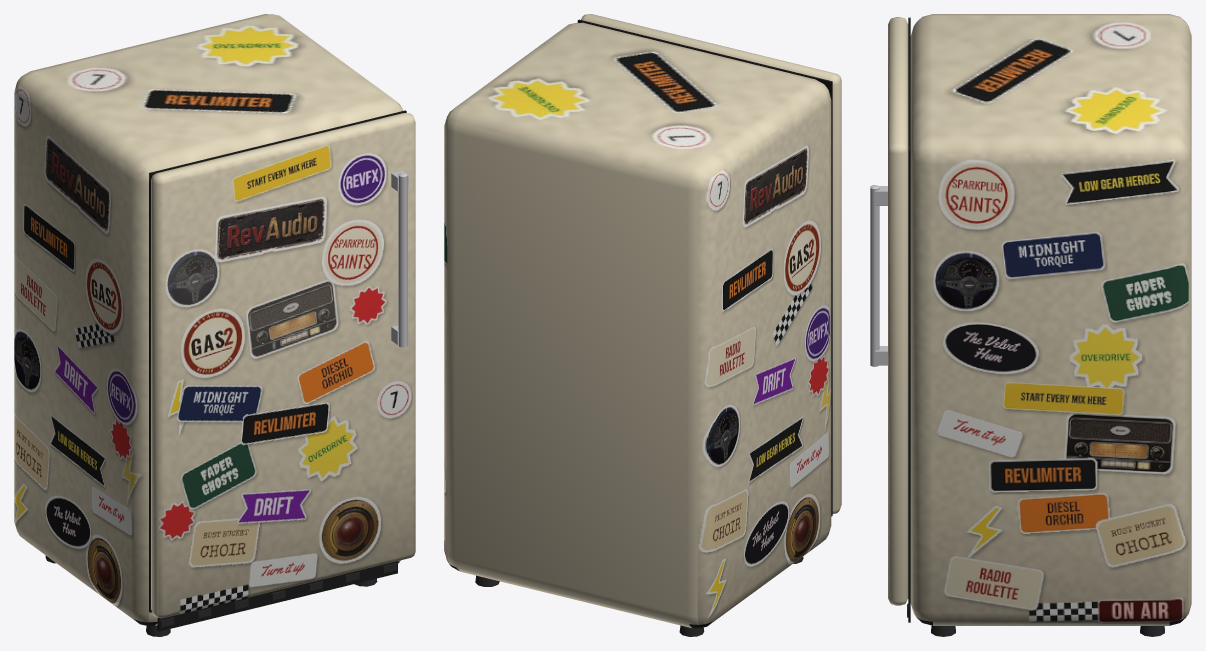
Rendered from mini-fridge.glb.
3 views of the same model, side by side, from view 1: azimuth 30°, elevation 25°; view 2: azimuth 150°, elevation 25°; view 3: azimuth 270°, elevation 25° (orthographic). The views are drawn at different scales.
Visible parts, largest first — view 1: mini_fridge_N28; view 2: mini_fridge_N28; view 3: mini_fridge_N28.
Boxes of the visible parts, <box> form: mini_fridge_N28: <box>14,14,415,636</box>; mini_fridge_N28: <box>444,14,841,636</box>; mini_fridge_N28: <box>870,14,1191,636</box>.
Size of the model in its own units: 0.5 by 0.85 by 0.4921.
1 material, 1 textured.
